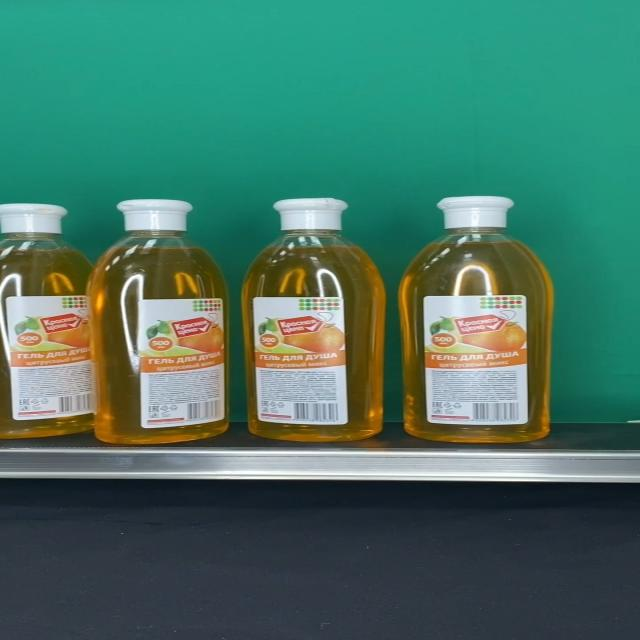Bottle: (398, 196, 556, 443), (242, 198, 386, 442), (87, 199, 227, 445), (0, 204, 95, 438)
Cap: (436, 196, 514, 229), (273, 198, 348, 231), (116, 200, 192, 230), (0, 203, 68, 234)
